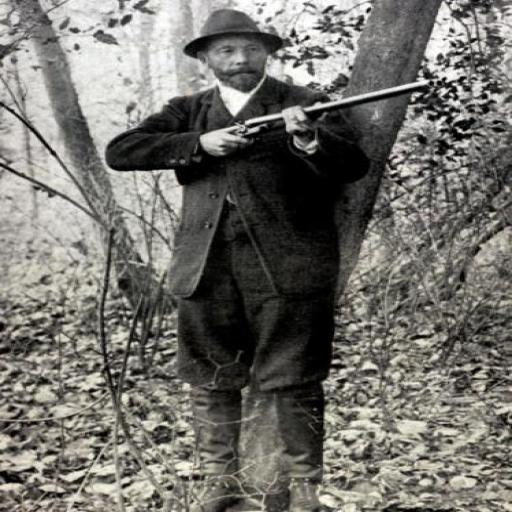shooting: (101, 7, 375, 511)
